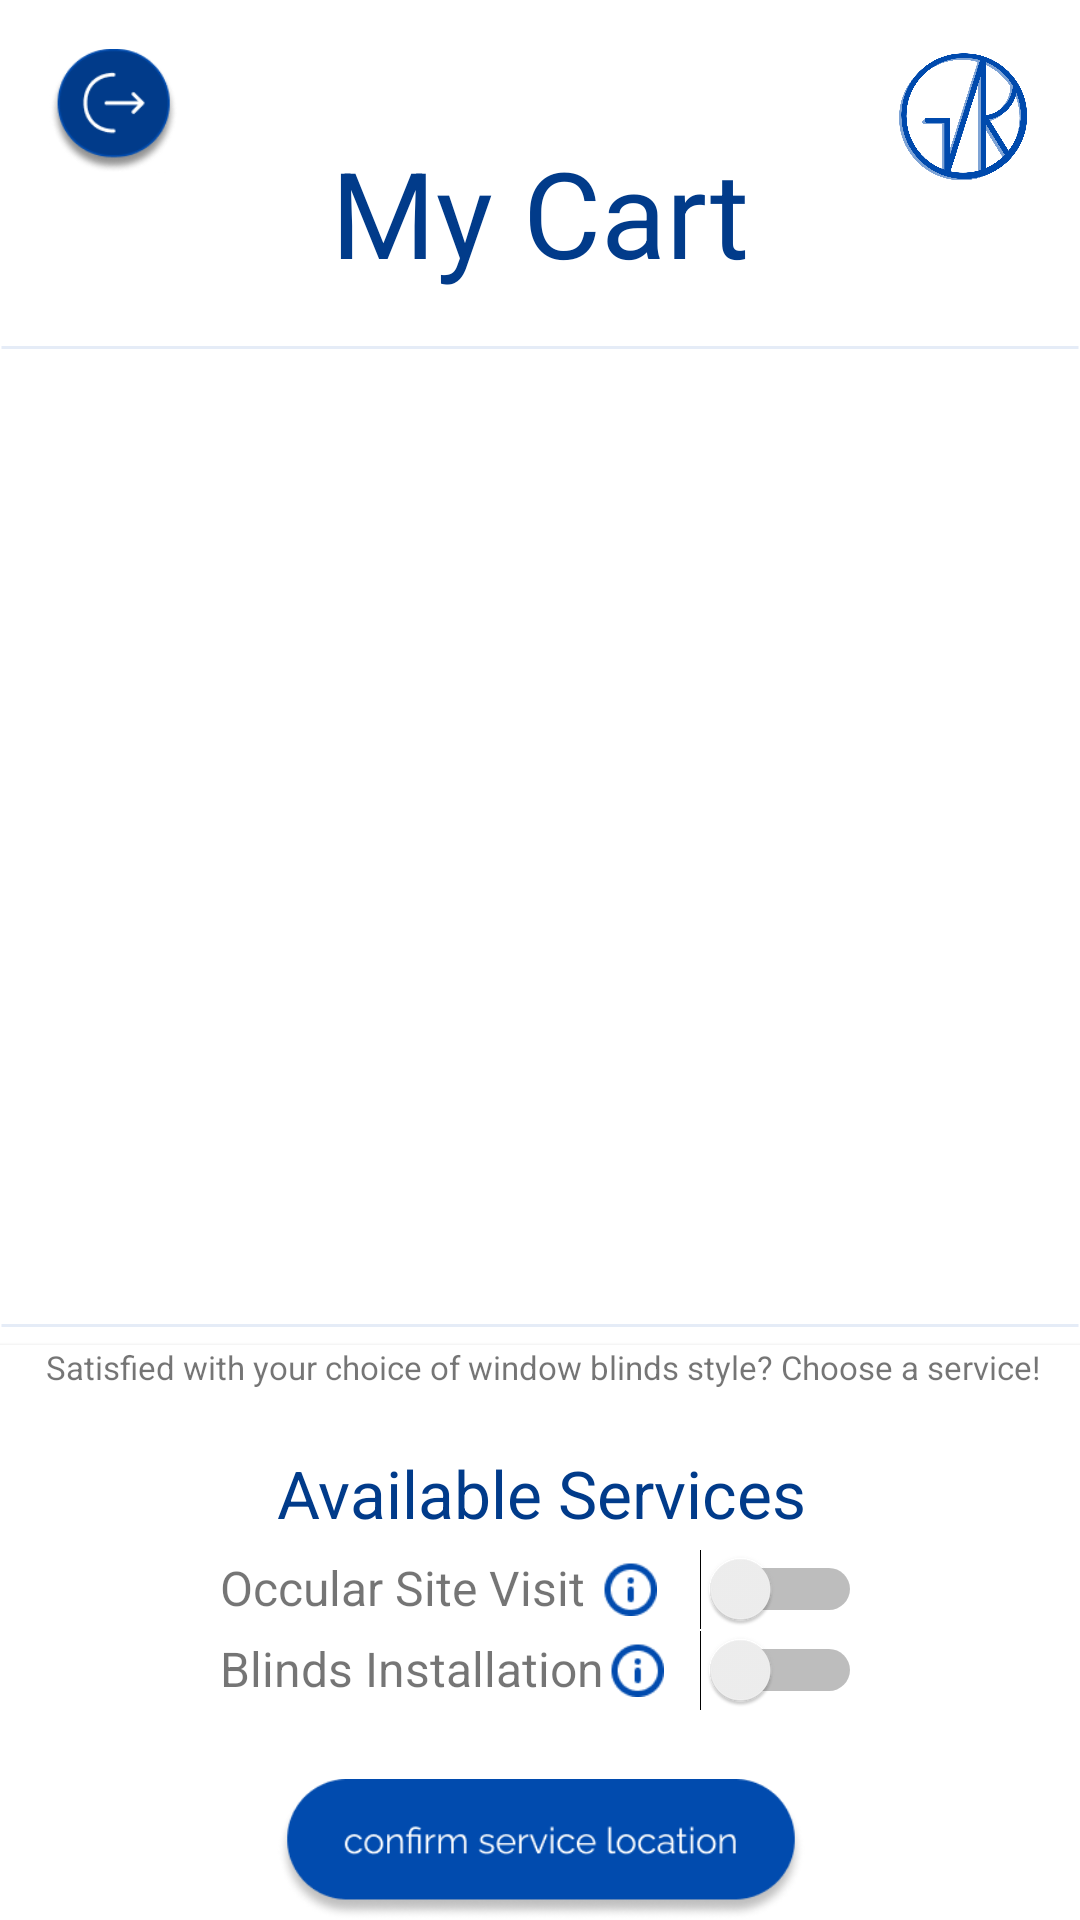

Screen size 1080×1920. Icon name, then its center in pixels as (x=x, y=y):
info: (x=630, y=1589), (x=637, y=1670)
